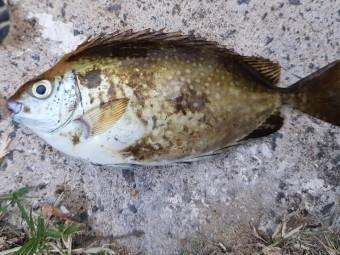fish: (8, 29, 339, 164)
